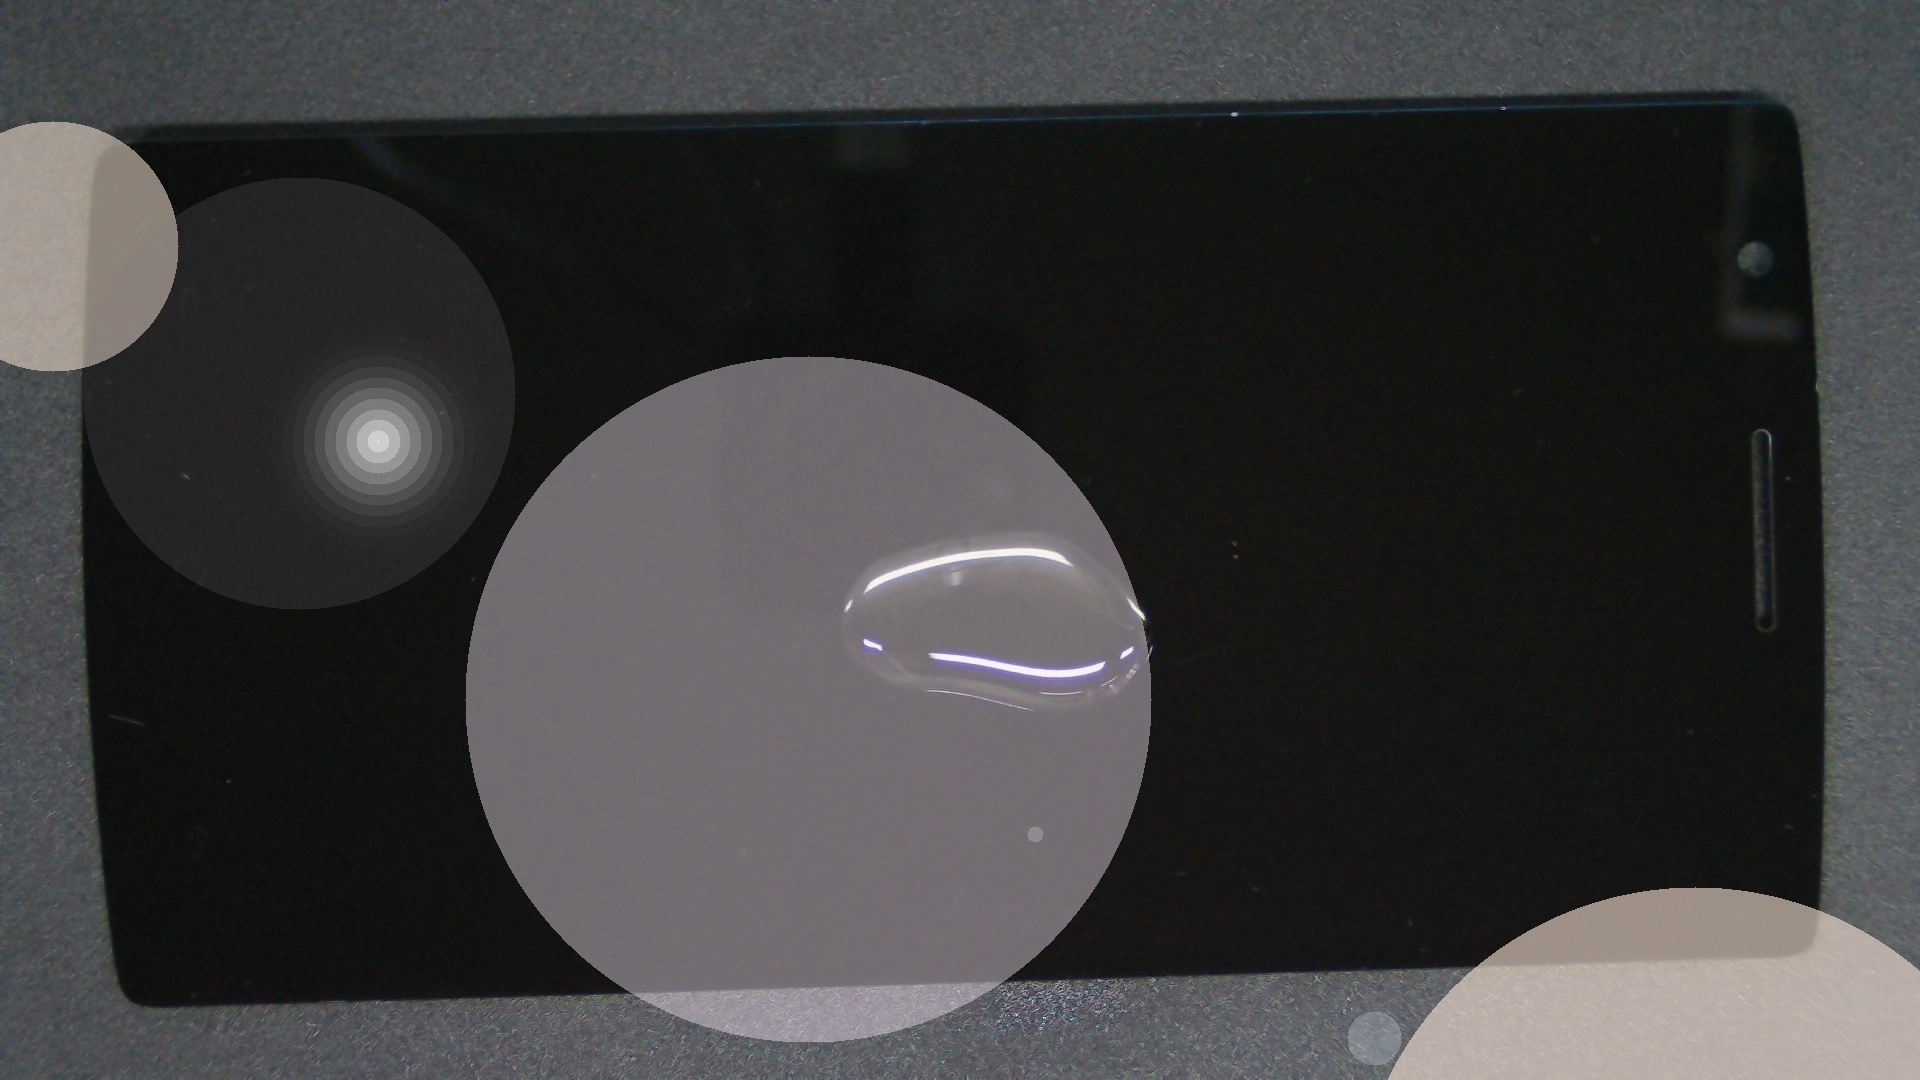oil: (518, 265, 1552, 796)
